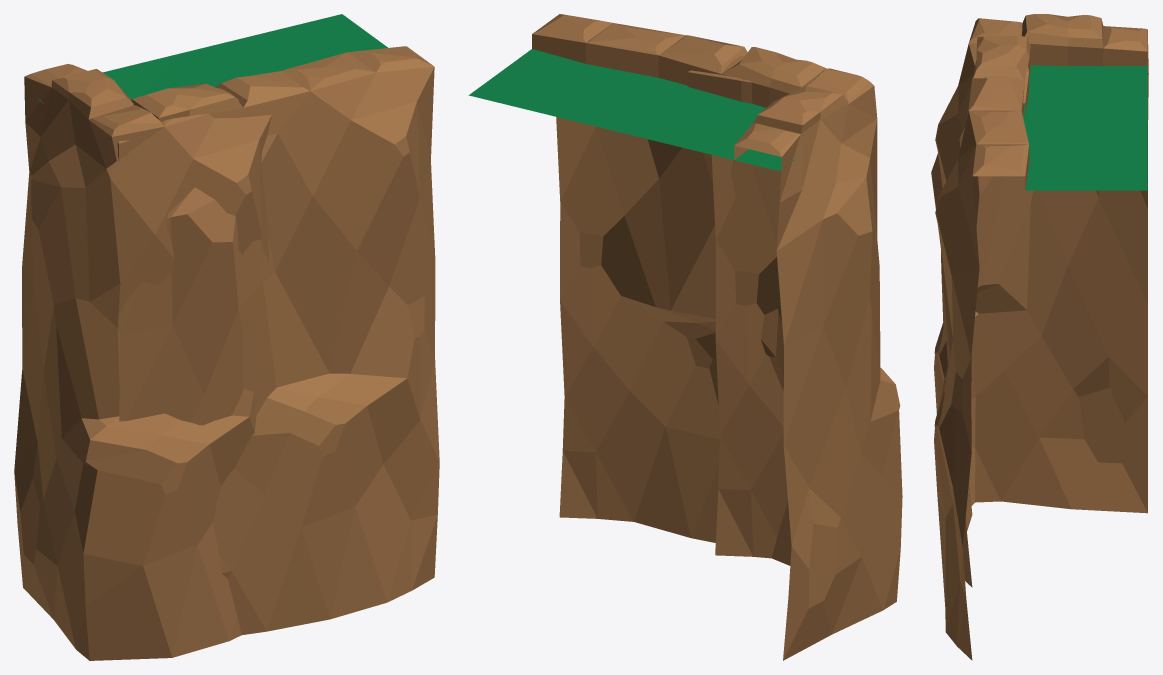
File: Map Tiles.fbx
3 views of the same model, side by side, from view 1: azimuth 30°, elevation 25°; view 2: azimuth 150°, elevation 25°; view 3: azimuth 270°, elevation 25° (orthographic). The views are drawn at different scales.
Parts seen in each view (by area): view 1: Wall Straight, Wall Corner Out, Wall Corner In, Flat Grass; view 2: Wall Corner Out, Wall Straight, Wall Corner In, Flat Grass; view 3: Wall Corner Out, Wall Straight, Wall Corner In, Flat Grass.
Boxes of the visible parts, left/top/right/bottom form: Wall Straight: left=118, top=14, right=439, bottom=634; Wall Corner Out: left=14, top=52, right=271, bottom=660; Wall Corner In: left=38, top=52, right=183, bottom=158; Flat Grass: left=149, top=52, right=224, bottom=89; Wall Corner Out: left=687, top=56, right=902, bottom=660; Wall Straight: left=468, top=14, right=826, bottom=565; Wall Corner In: left=625, top=126, right=795, bottom=171; Flat Grass: left=624, top=87, right=713, bottom=133; Wall Corner Out: left=934, top=14, right=1148, bottom=587; Wall Straight: left=931, top=35, right=1147, bottom=660; Wall Corner In: left=1055, top=65, right=1147, bottom=117; Flat Grass: left=1023, top=88, right=1147, bottom=117.
Bounding box in the file's own units: 2261 × 3230 × 1259.
